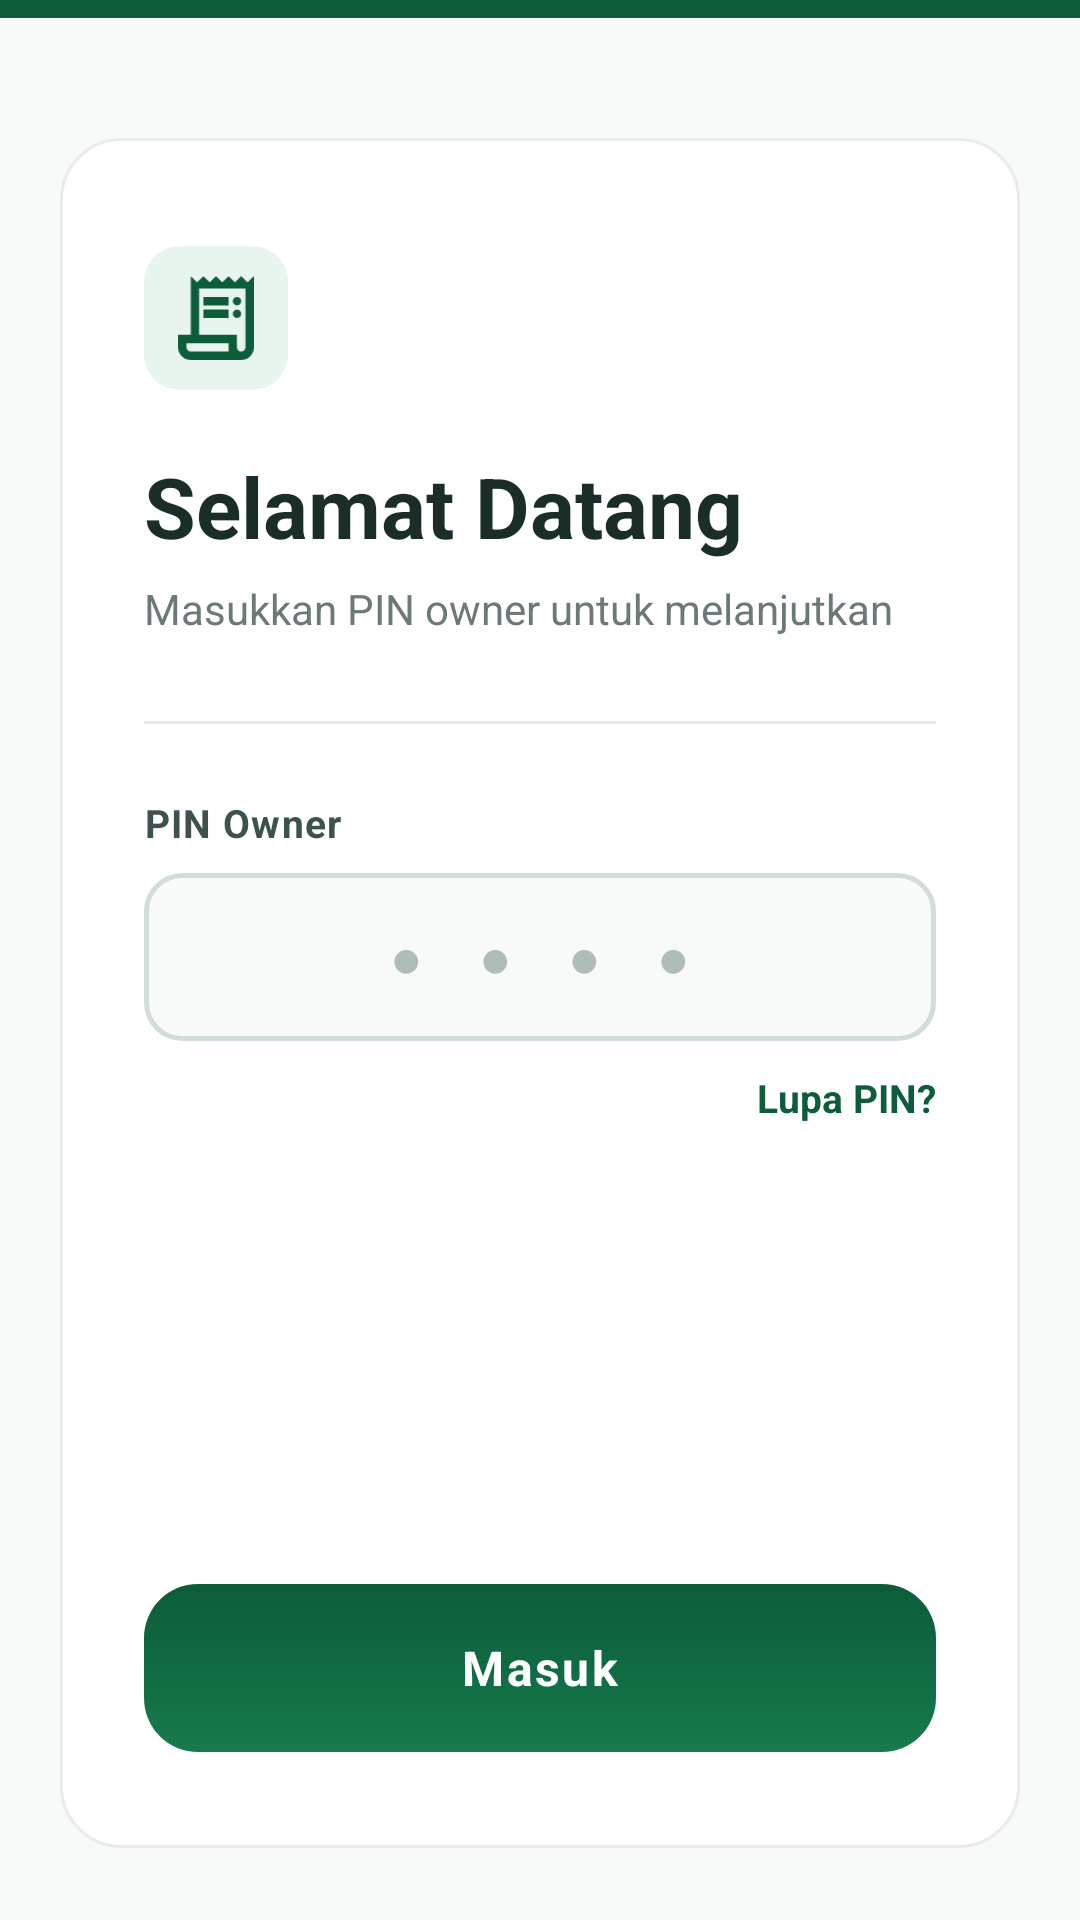

Icons on this 1080×1920 Android screen, each with its box as (x1, y1, x2, y2):
daftartransaksi: (178, 276, 254, 360)
